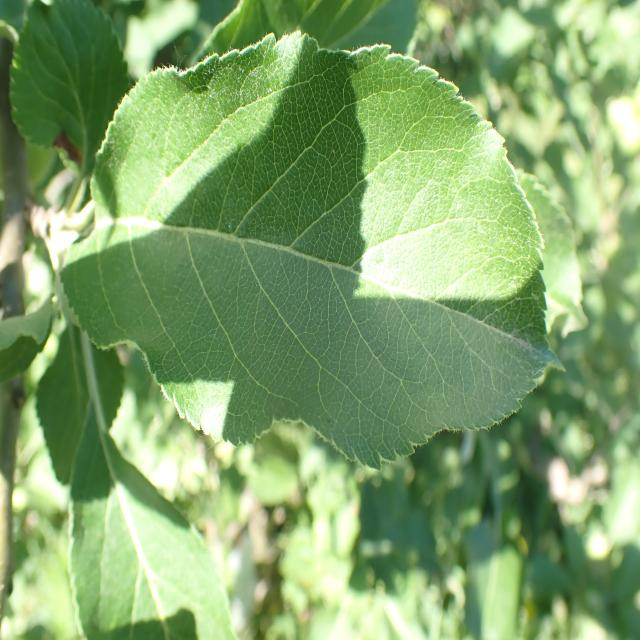healthy: (59, 28, 568, 469), (68, 400, 238, 640), (8, 0, 132, 174)
